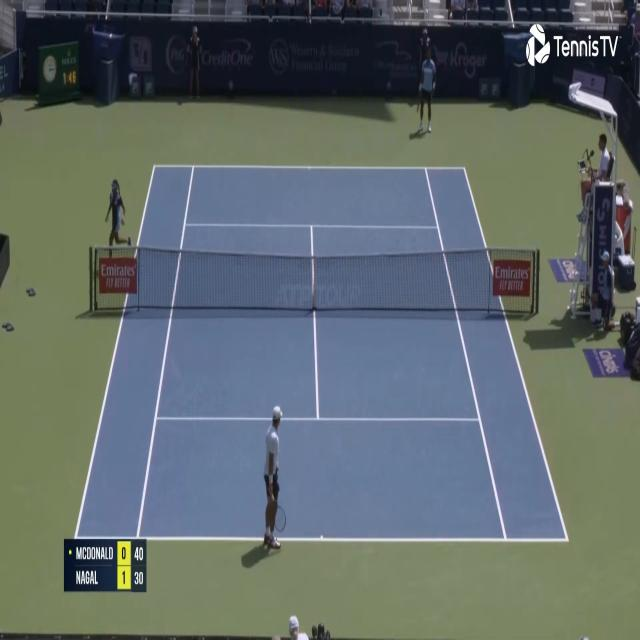tennis-player: (259, 401, 287, 557), (416, 44, 437, 134)
